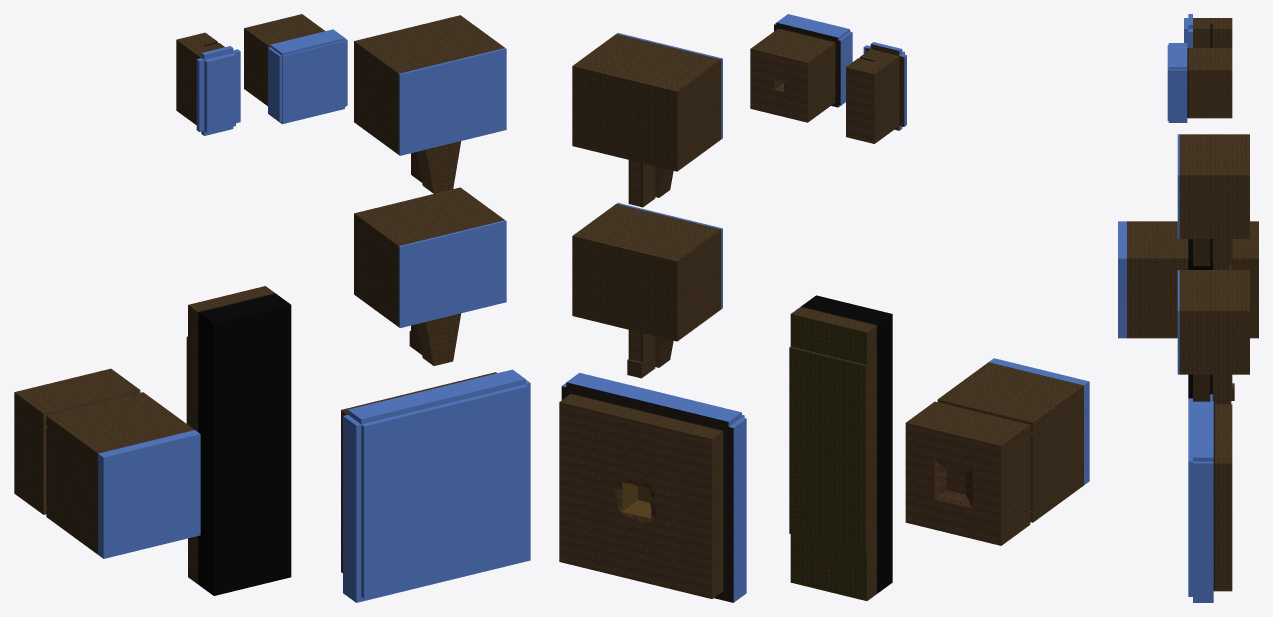
Rendered from trick.glb.
3 renders of one model, left to right at view 1: azimuth 30°, elevation 25°; view 2: azimuth 150°, elevation 25°; view 3: azimuth 270°, elevation 25°, orthographic. The views are drawn at different scales.
Parts seen in each view (by area): view 1: trick; view 2: trick; view 3: trick.
Boxes of the visible parts, left/top/right/bottom form: trick: left=14, top=14, right=530, bottom=602; trick: left=559, top=14, right=1089, bottom=602; trick: left=1118, top=14, right=1258, bottom=602.
Bounding box in the file's own units: 6272 × 7424 × 2048.
Materials: 14 (14 with a texture image).
